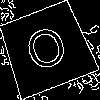O: (22, 23, 74, 81)
